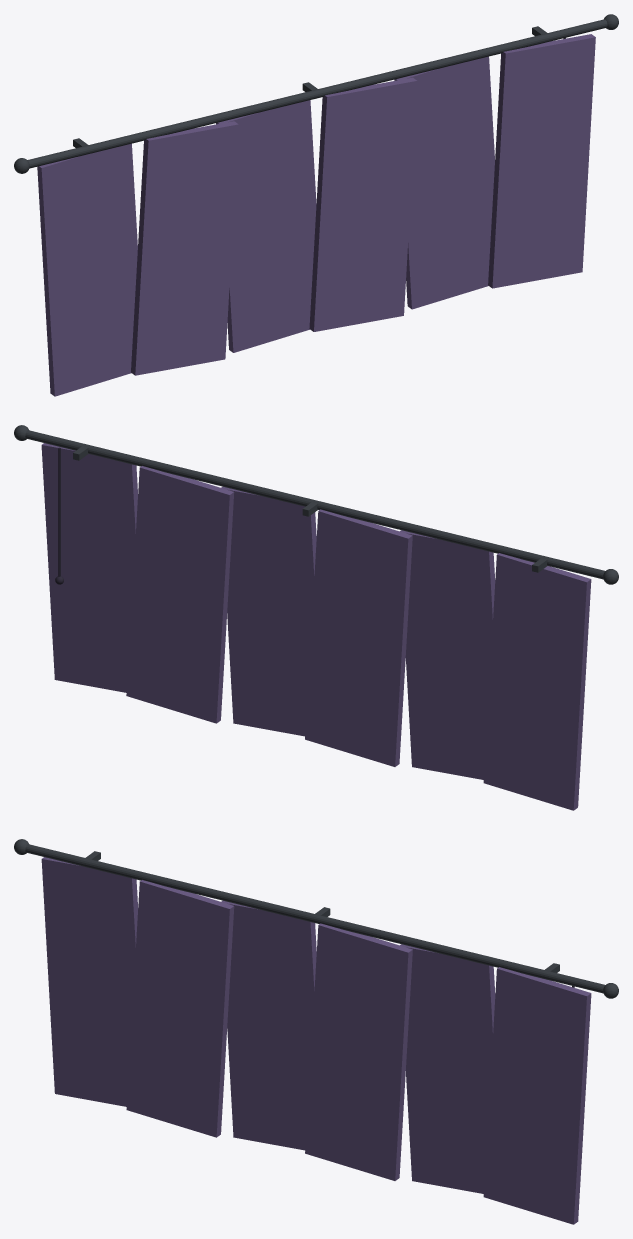
The model's file is curtain-drape.glb.
3 renders of one model, top to bottom at view 1: azimuth 30°, elevation 25°; view 2: azimuth 150°, elevation 25°; view 3: azimuth 330°, elevation 25°, orthographic.
Parts seen in each view (by area): view 1: drape.005, drape.001, drape.003, drape, drape.002, drape.004, rail; view 2: drape.004, drape.002, drape, drape.005, drape.001, drape.003, rail; view 3: drape.001, drape.005, drape.003, drape, drape.002, drape.004, rail.
Part boxes in pixels (bbox=[...]): drape.005: bbox=[488, 34, 595, 288]; drape.001: bbox=[131, 121, 238, 375]; drape.003: bbox=[309, 77, 417, 331]; drape: bbox=[37, 143, 137, 396]; drape.002: bbox=[216, 100, 316, 352]; drape.004: bbox=[394, 56, 494, 309]; rail: bbox=[27, 19, 607, 168]; drape.004: bbox=[126, 466, 234, 723]; drape.002: bbox=[305, 509, 412, 766]; drape: bbox=[483, 553, 591, 810]; drape.005: bbox=[41, 443, 137, 692]; drape.001: bbox=[400, 530, 495, 779]; drape.003: bbox=[221, 486, 316, 736]; rail: bbox=[25, 430, 605, 579]; drape.001: bbox=[126, 880, 234, 1137]; drape.005: bbox=[483, 967, 591, 1224]; drape.003: bbox=[305, 923, 412, 1180]; drape: bbox=[41, 857, 138, 1106]; drape.002: bbox=[221, 900, 316, 1150]; drape.004: bbox=[400, 944, 495, 1193]; rail: bbox=[25, 844, 605, 993].
Size of the model in its own units: 7.88 by 3.07 by 0.345.
